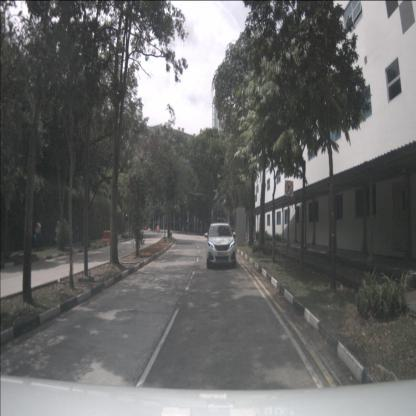barrier: (103, 231, 118, 242)
